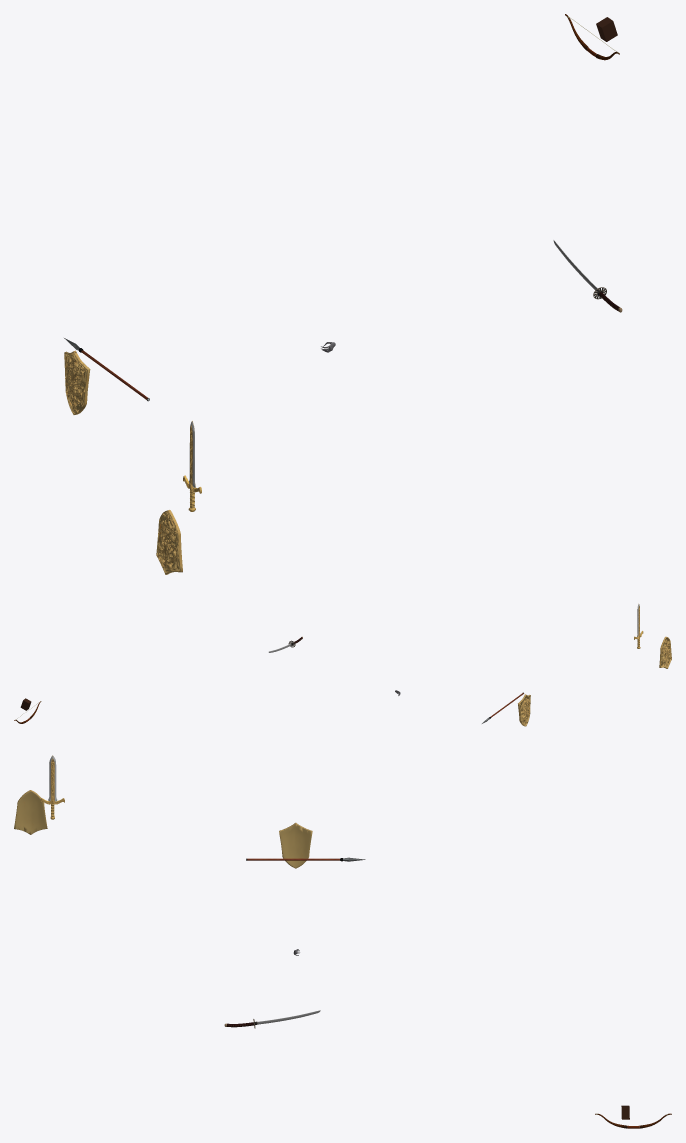
Rendered from assets.obj.
3 renders of one model, top to bottom at view 1: azimuth 30°, elevation 25°; view 2: azimuth 150°, elevation 25°; view 3: azimuth 270°, elevation 25°, orthographic. The views are drawn at different scales.
Visible parts, largest first — view 1: Shield1, Shield2; view 2: Shield1, Shield2; view 3: Shield2, Shield1.
Boxes of the visible parts, x1=… form: Shield1: x1=156, y1=510, x2=182, y2=574; Shield2: x1=64, y1=350, x2=90, y2=414; Shield1: x1=659, y1=636, x2=671, y2=668; Shield2: x1=518, y1=694, x2=530, y2=726; Shield2: x1=279, y1=822, x2=312, y2=868; Shield1: x1=14, y1=790, x2=47, y2=834.
Size of the model in its own units: 72.26 by 10.58 by 66.87.
7 materials, 5 textured.
